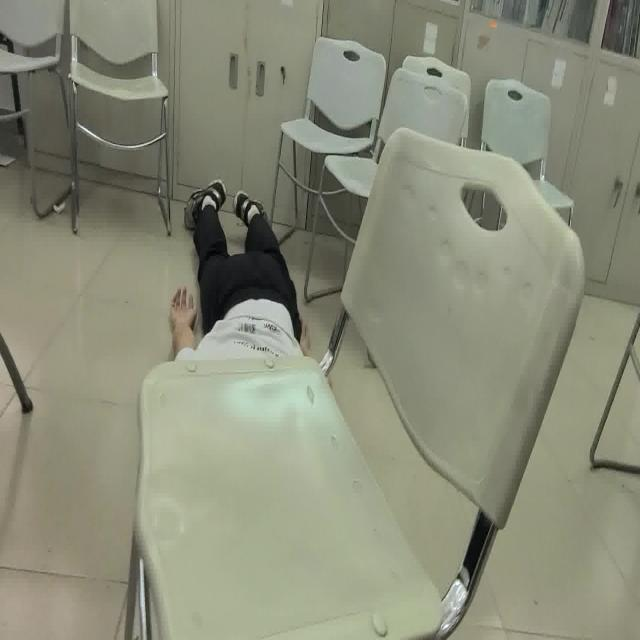Fall-Detected: (165, 177, 314, 358)
